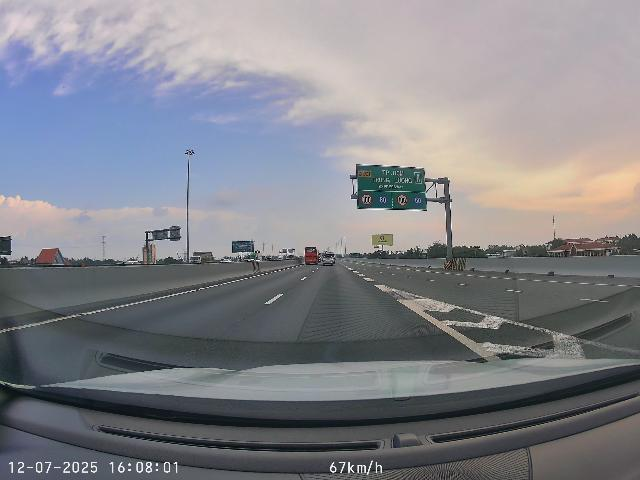127-toc-do-toi-da-100: (360, 193, 374, 206), (396, 193, 409, 206)
306-toc-do-toi-thieu-60: (377, 194, 389, 206), (412, 195, 423, 206)
437-bat-dau-duong-cao-toc: (414, 172, 422, 184)
